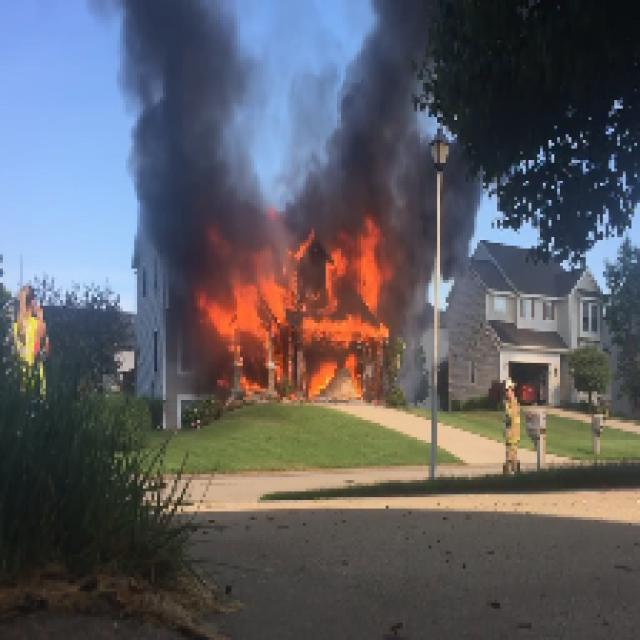fire: (212, 261, 381, 351)
smoke: (143, 1, 239, 256), (366, 10, 426, 202)
